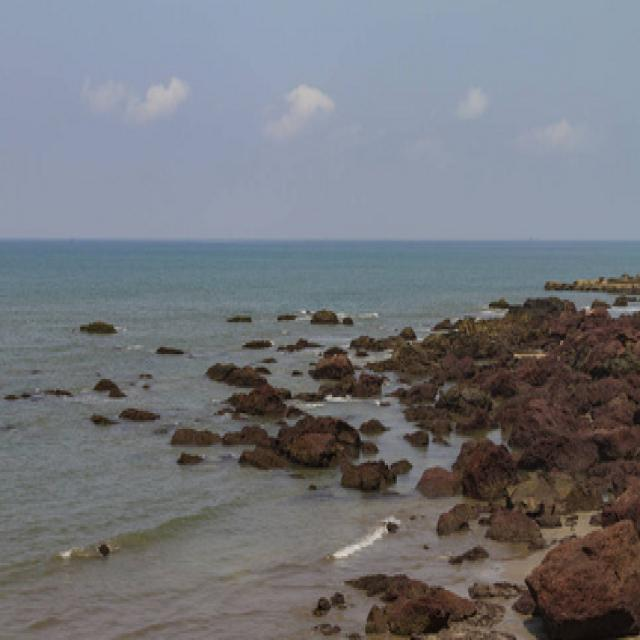reef: (157, 327, 441, 538)
